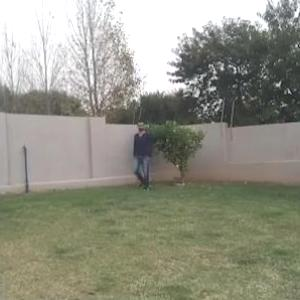follow: (134, 121, 152, 194)
